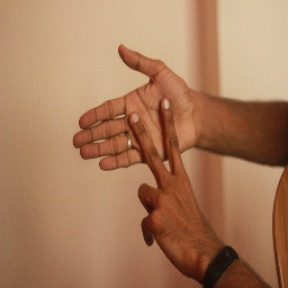N: (69, 41, 214, 234)
